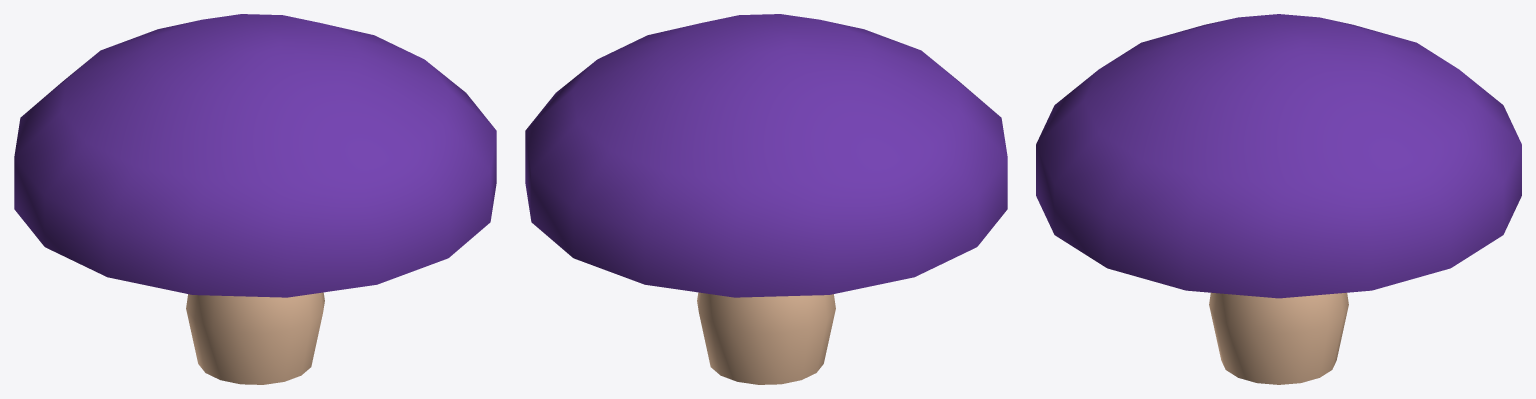
The model's file is jumpmush_purple.fbx.
3 views of the same model, side by side, from view 1: azimuth 30°, elevation 25°; view 2: azimuth 150°, elevation 25°; view 3: azimuth 270°, elevation 25° (orthographic).
Parts seen in each view (by area): view 1: Cylinder; view 2: Cylinder; view 3: Cylinder.
Boxes of the visible parts, x1,y1,x2,y2 form: Cylinder: [14, 14, 496, 384]; Cylinder: [525, 14, 1007, 384]; Cylinder: [1036, 14, 1521, 384].
Bounding box in the file's own units: 89.24 × 64.28 × 89.24.
